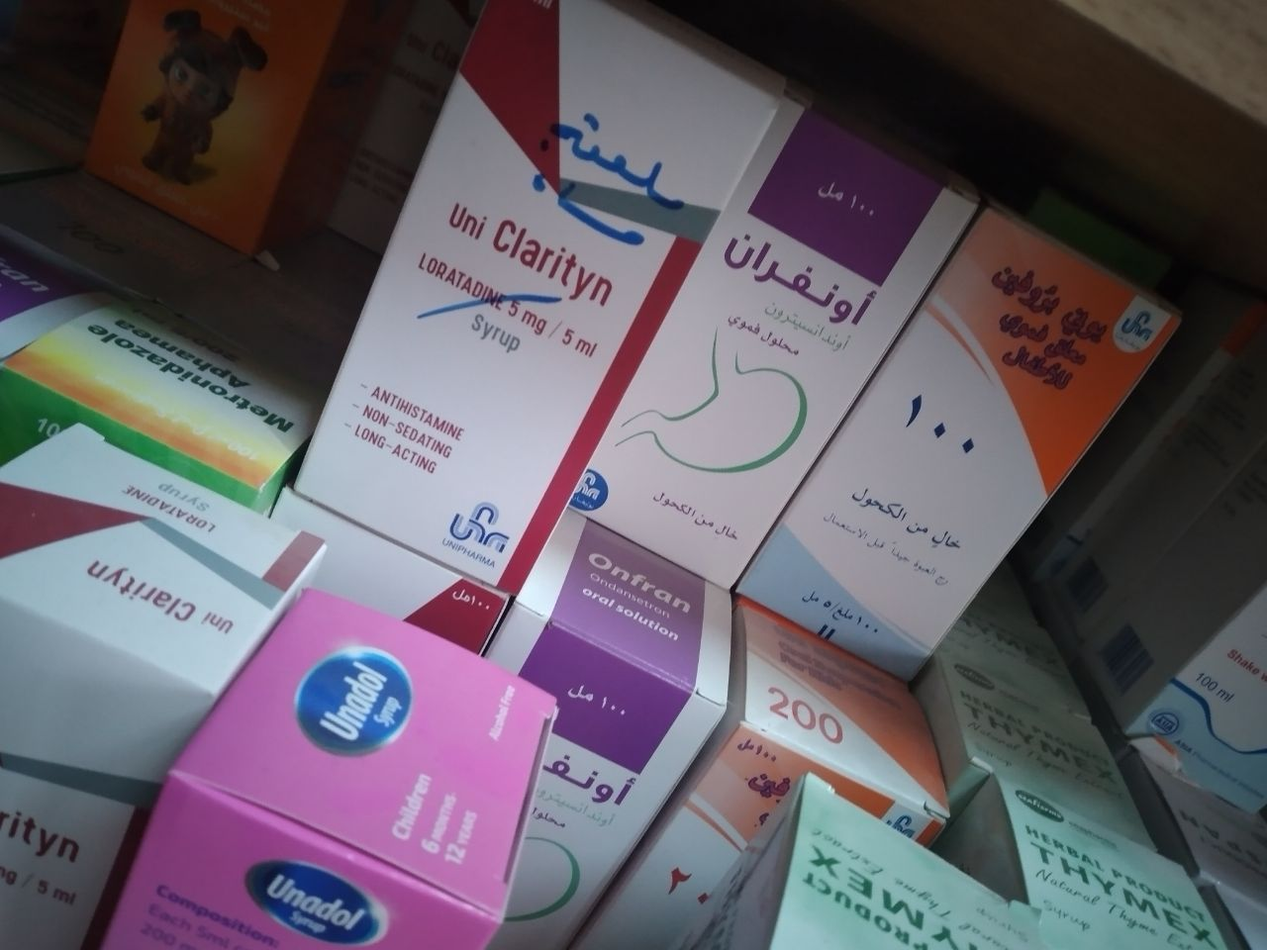Medicine: (277, 0, 772, 591), (569, 77, 975, 633), (732, 208, 1180, 678)
